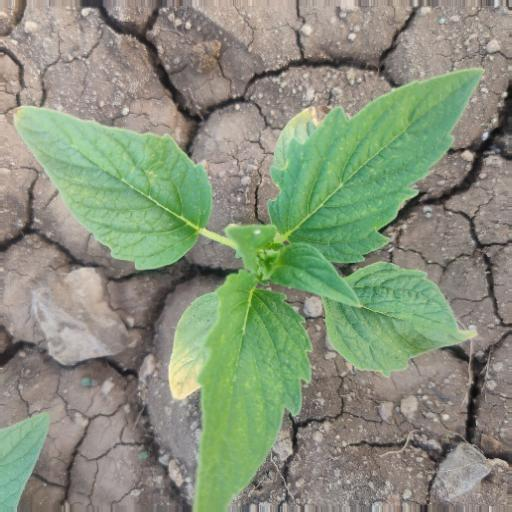crop: (8, 55, 490, 508)
